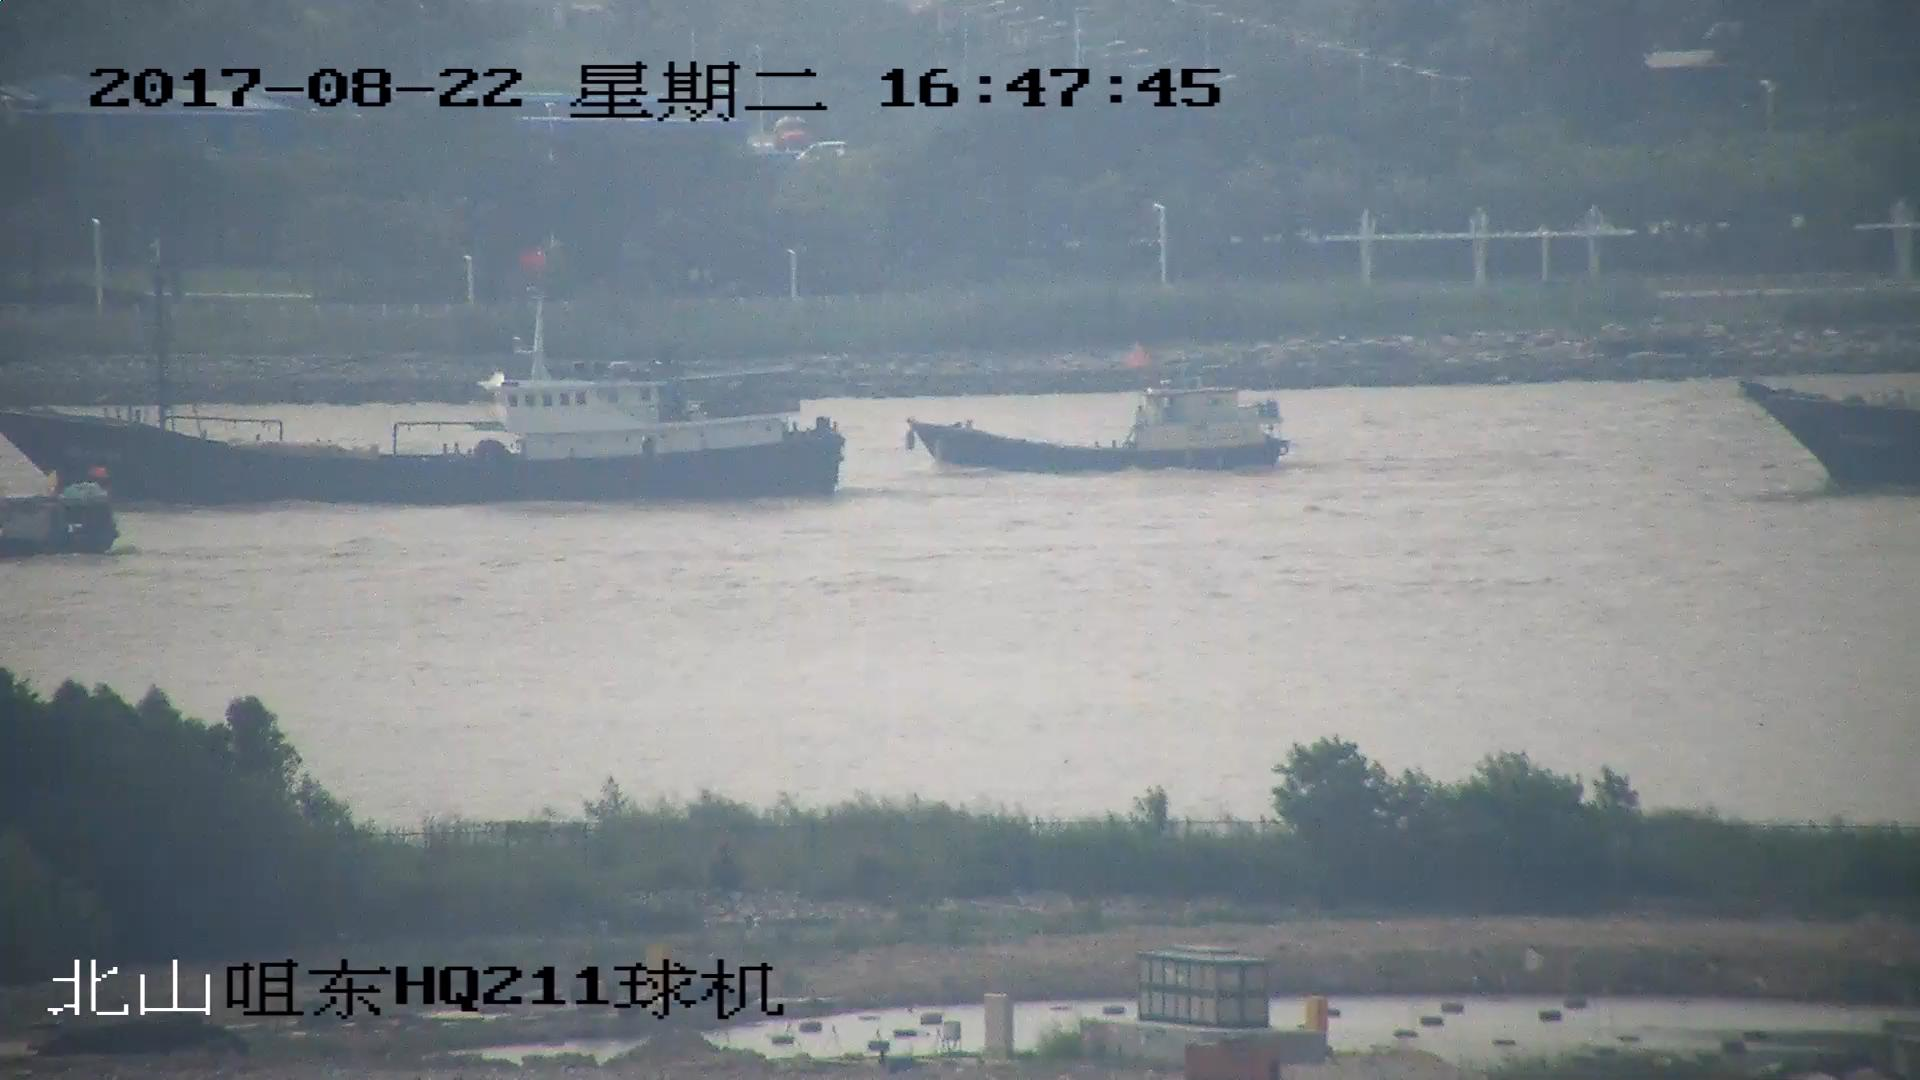fishing boat: (1, 247, 850, 508), (912, 354, 1287, 474), (1750, 371, 1920, 486), (1, 470, 123, 559)
